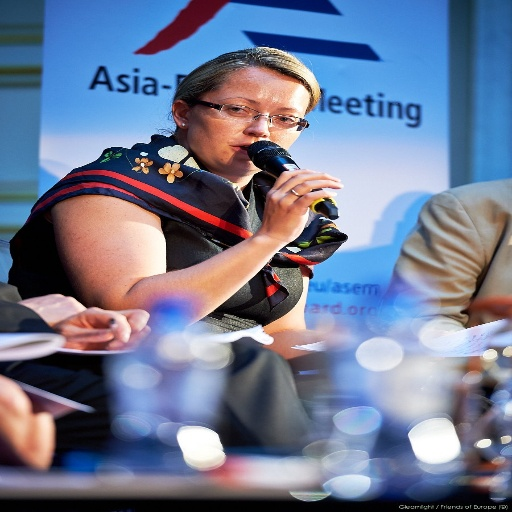hand: (239, 162, 331, 246), (51, 304, 156, 354)
